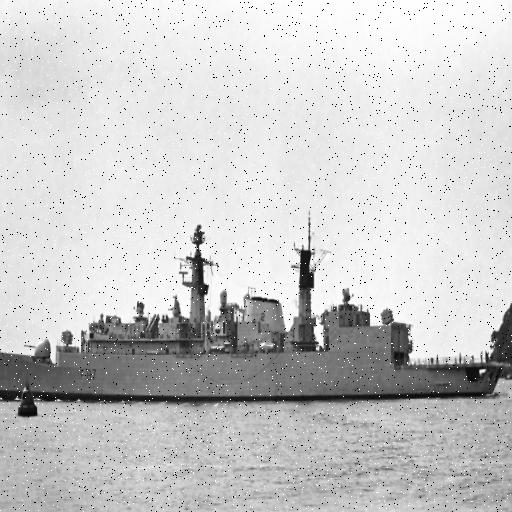Fragata: (1, 213, 504, 406)
